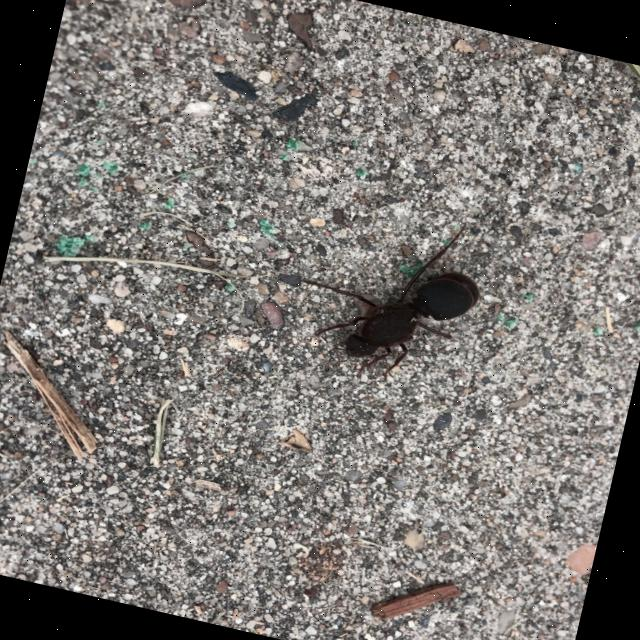Alive-Female-Dealate: (282, 189, 495, 399)
